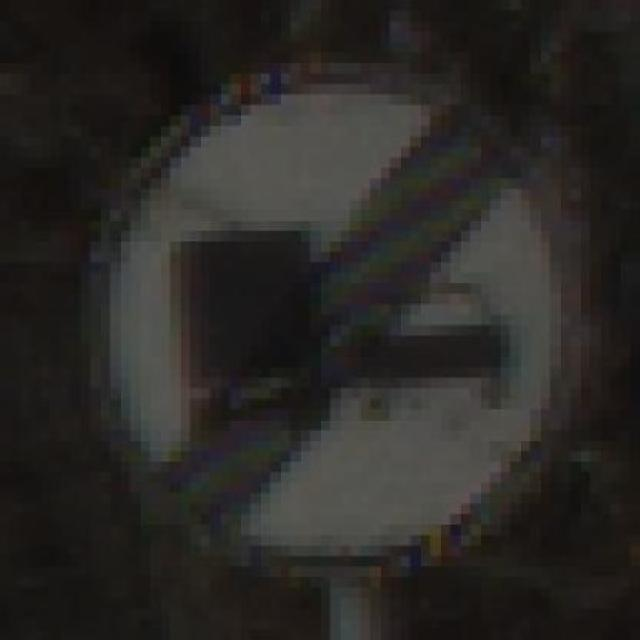Overtaking by trucks is prohibited: (60, 52, 620, 598)
